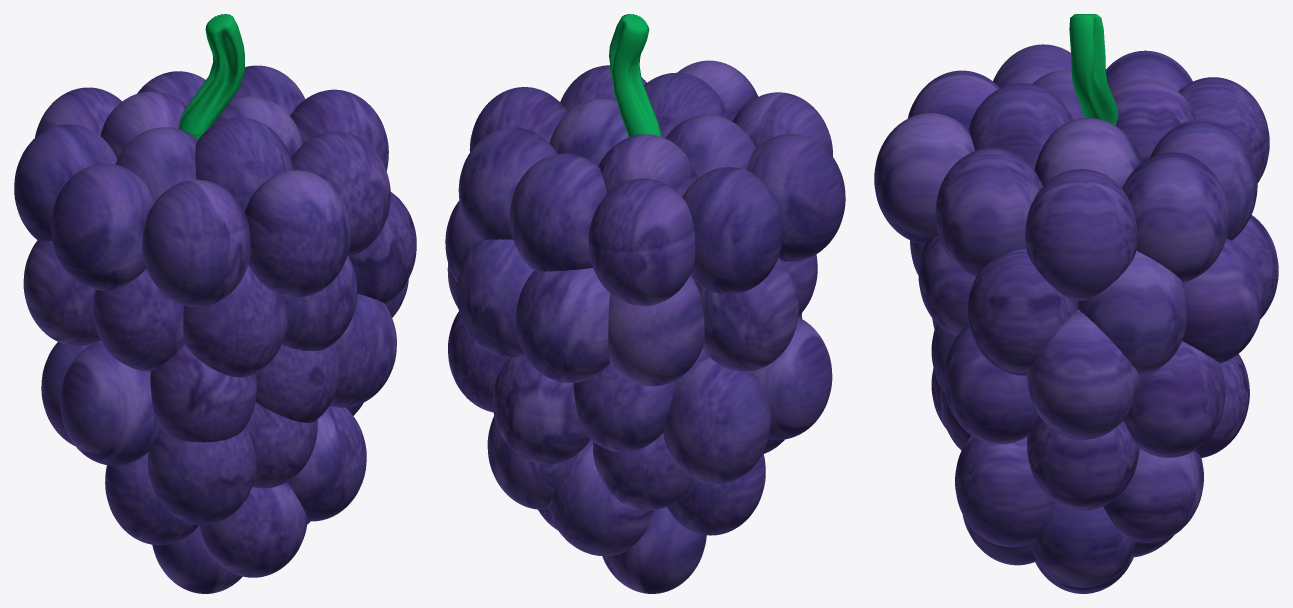
Rendered from Grapes2.fbx.
3 views of the same model, side by side, from view 1: azimuth 30°, elevation 25°; view 2: azimuth 150°, elevation 25°; view 3: azimuth 270°, elevation 25° (orthographic). The views are drawn at different scales.
Visible parts, largest first — view 1: polySurface349; view 2: polySurface349; view 3: polySurface349.
Boxes of the visible parts, <box> form: polySurface349: <box>14,14,416,593</box>; polySurface349: <box>445,14,845,593</box>; polySurface349: <box>874,14,1278,593</box>.
Bounding box in the file's own units: 0.7724 × 1.15 × 0.7214.
Materials: 3 (3 with a texture image).
